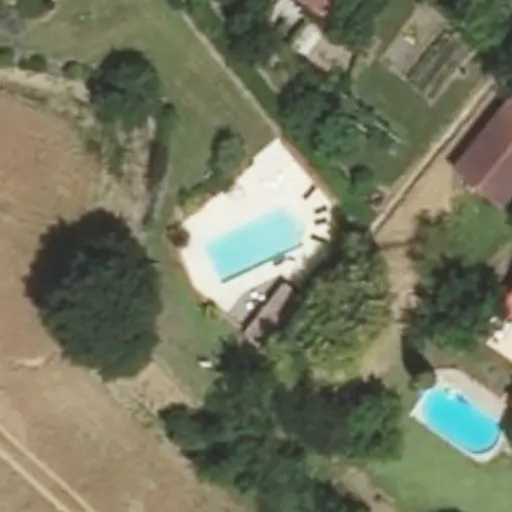pool: (205, 202, 307, 285), (416, 383, 505, 459)
